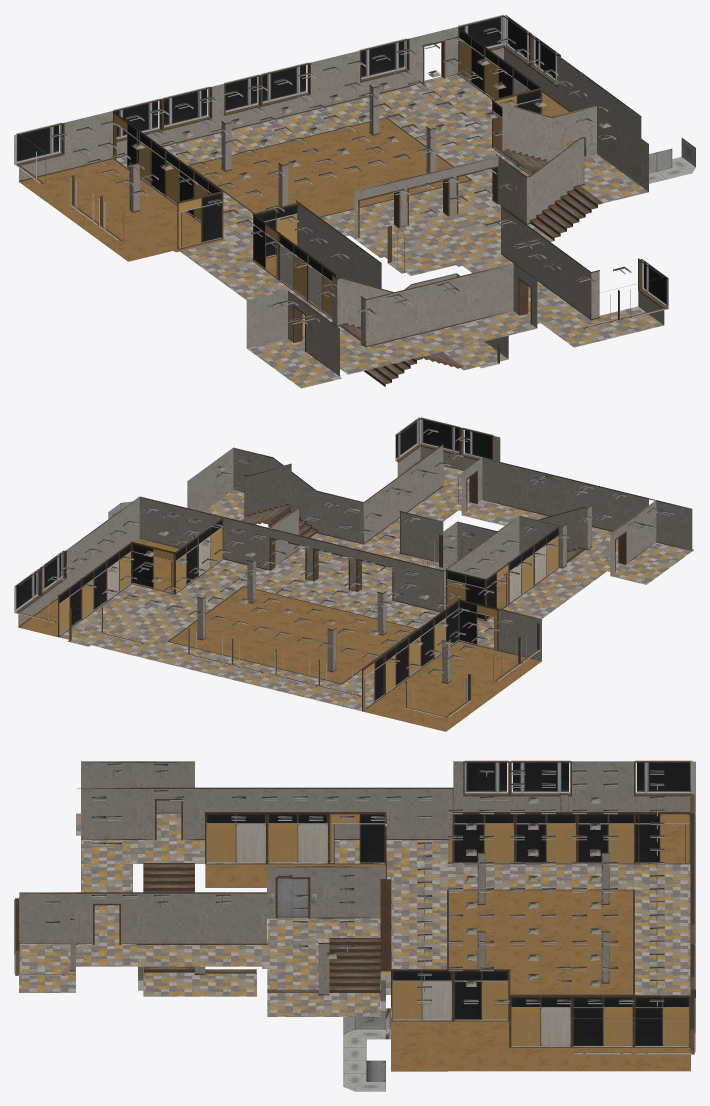
The model's file is office_a_floor_3.glb.
The picture shows the model from 3 angles, top to bottom: view 1: azimuth 30°, elevation 25°; view 2: azimuth 150°, elevation 25°; view 3: azimuth 270°, elevation 25°; orthographic projection. The views are drawn at different scales.
Visible parts, largest first — view 1: office_a_floor_3_LOD0; view 2: office_a_floor_3_LOD0; view 3: office_a_floor_3_LOD0.
Part boxes in pixels (x1=…): office_a_floor_3_LOD0: x1=14, y1=14, x2=695, y2=388; office_a_floor_3_LOD0: x1=14, y1=417, x2=694, y2=731; office_a_floor_3_LOD0: x1=14, y1=760, x2=695, y2=1091.
Size of the model in its own units: 32.06 by 10.3 by 33.
Materials: 10 (10 with a texture image).
